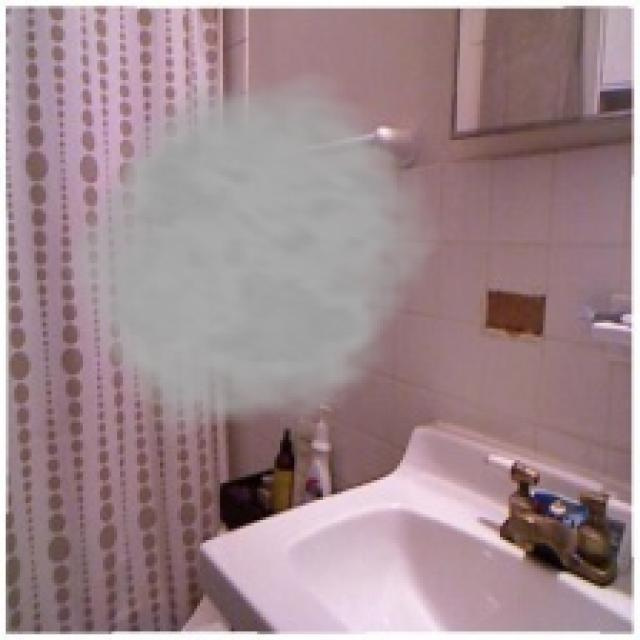Smoke: (54, 69, 452, 448)
